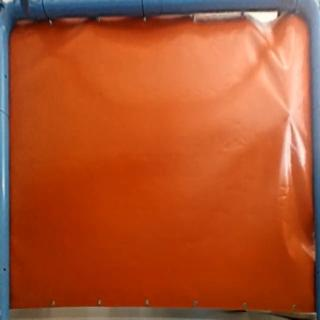Hit-hRxx: (280, 108, 294, 126)
